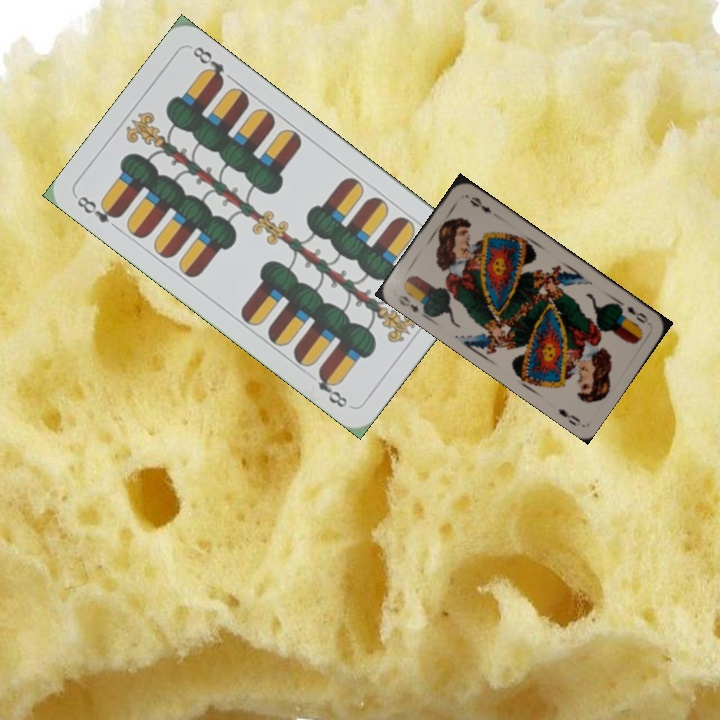E8: (73, 191, 124, 226)
EO: (394, 288, 429, 319), (623, 302, 651, 326)
